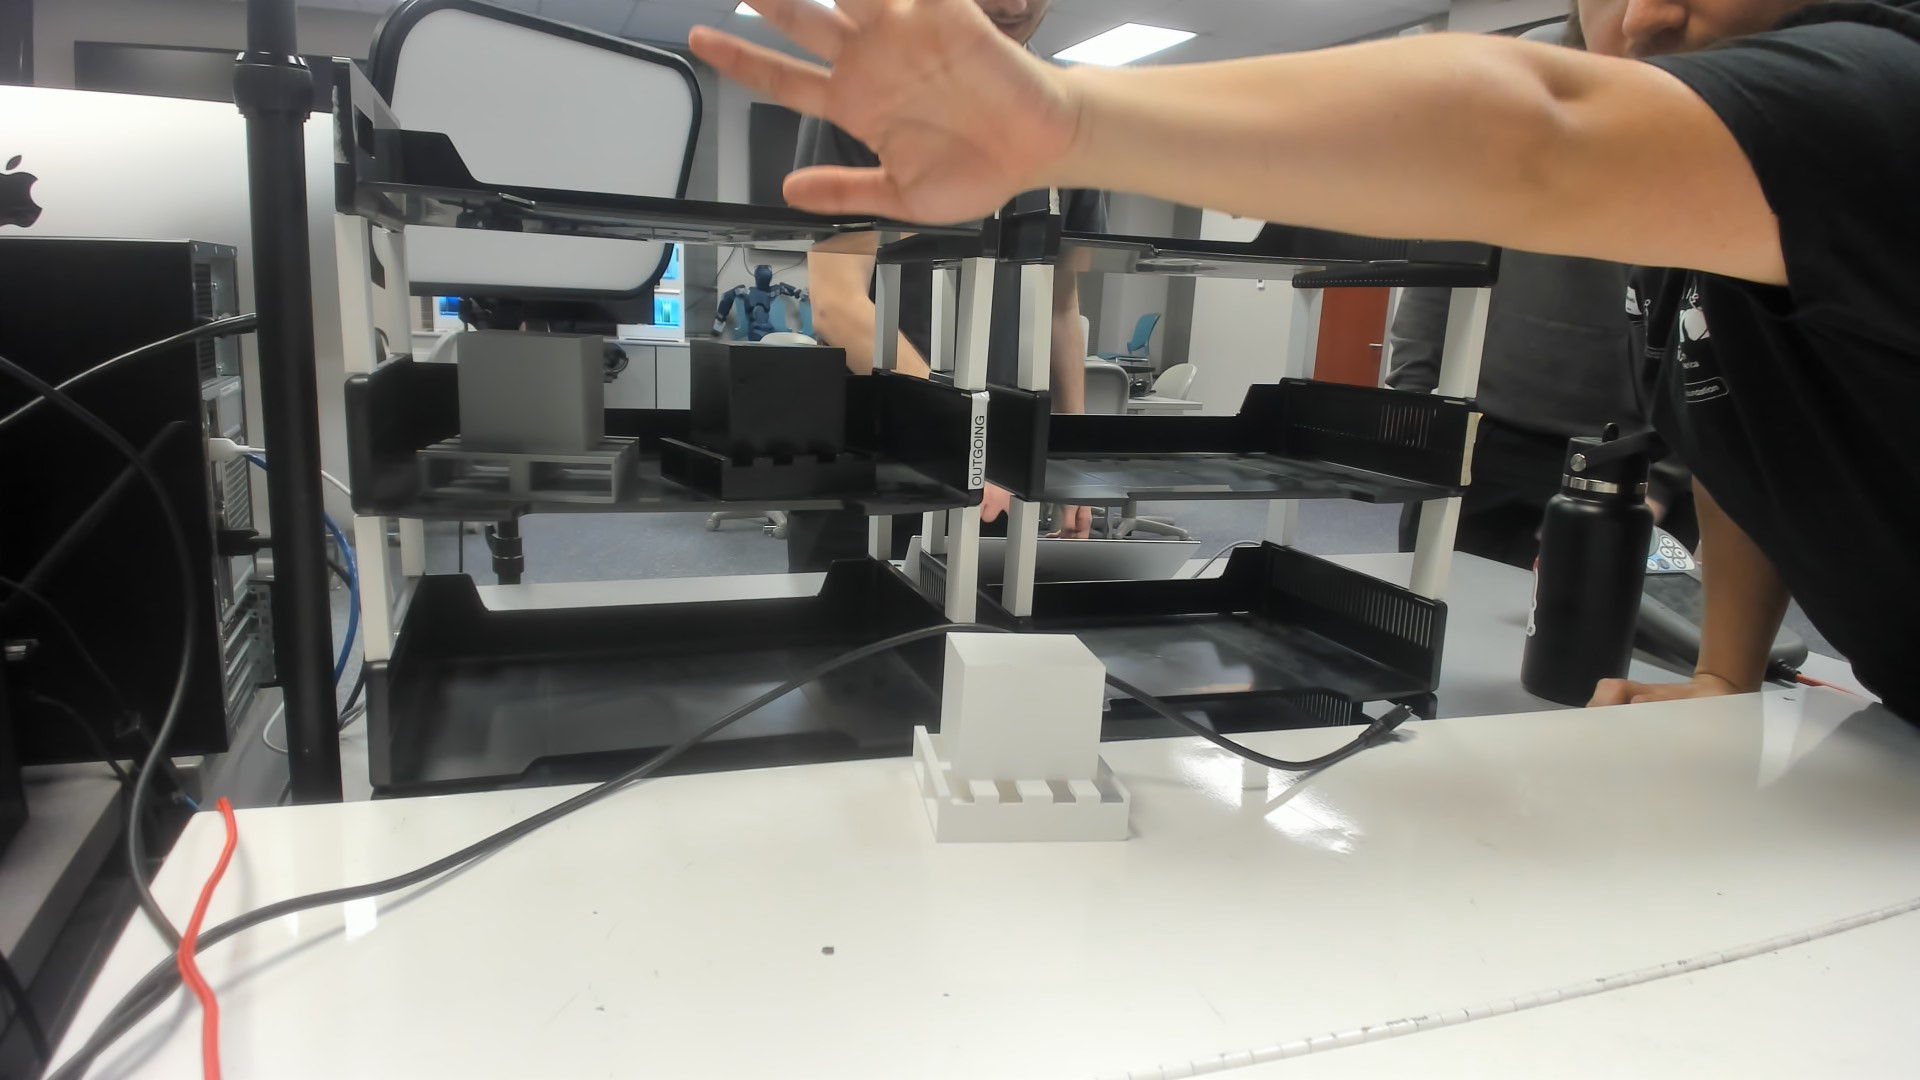black pallet: (651, 336, 887, 502)
grey pallet: (410, 323, 645, 514)
white pallet: (905, 626, 1143, 853)
